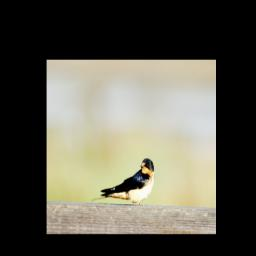Swallow: (90, 155, 155, 208)
